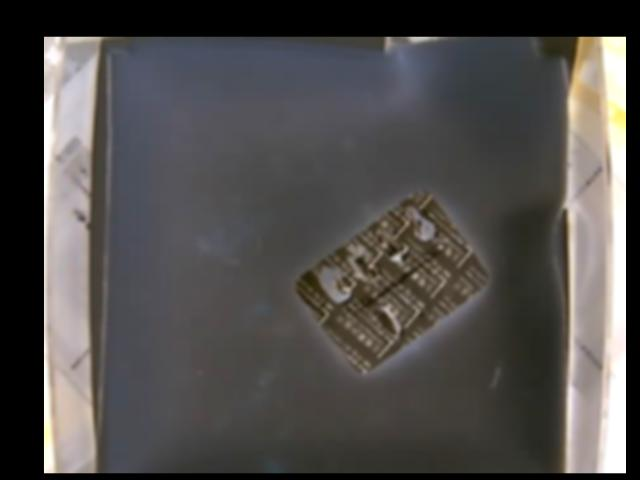Medicine: (294, 191, 486, 373)
